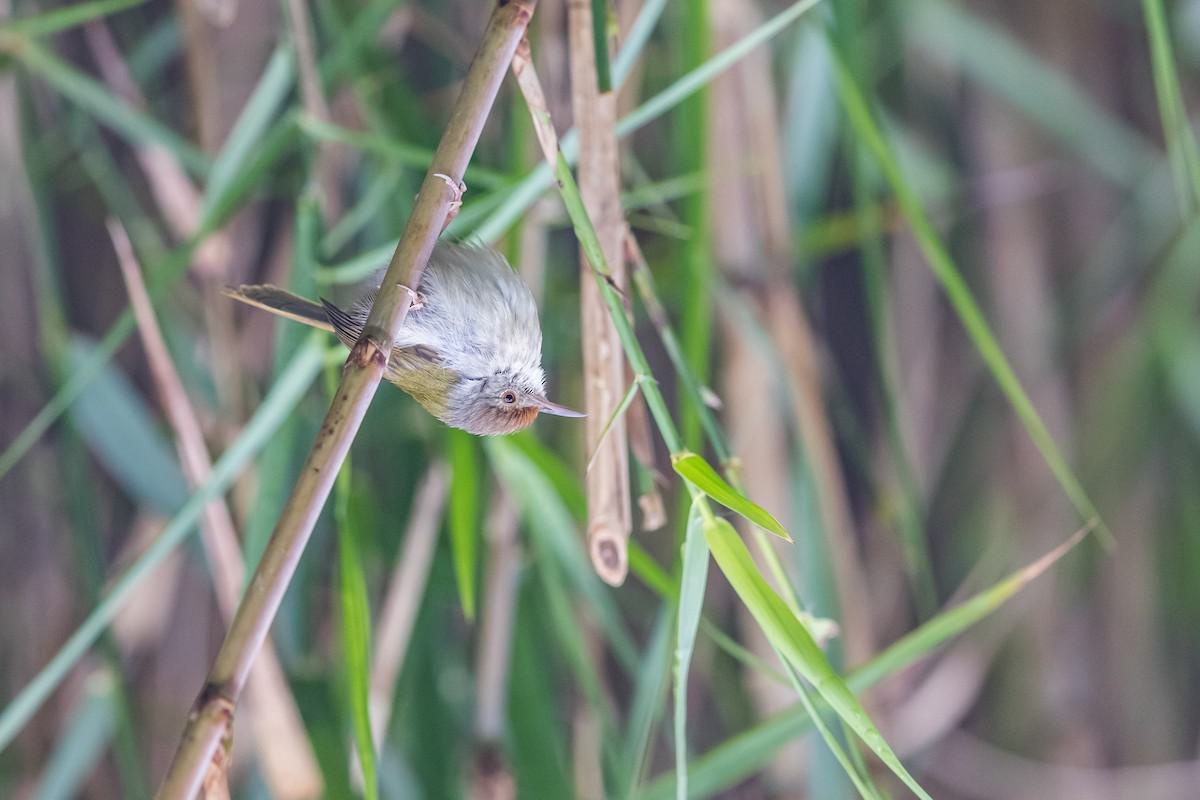tailorbird: (245, 172, 598, 458)
